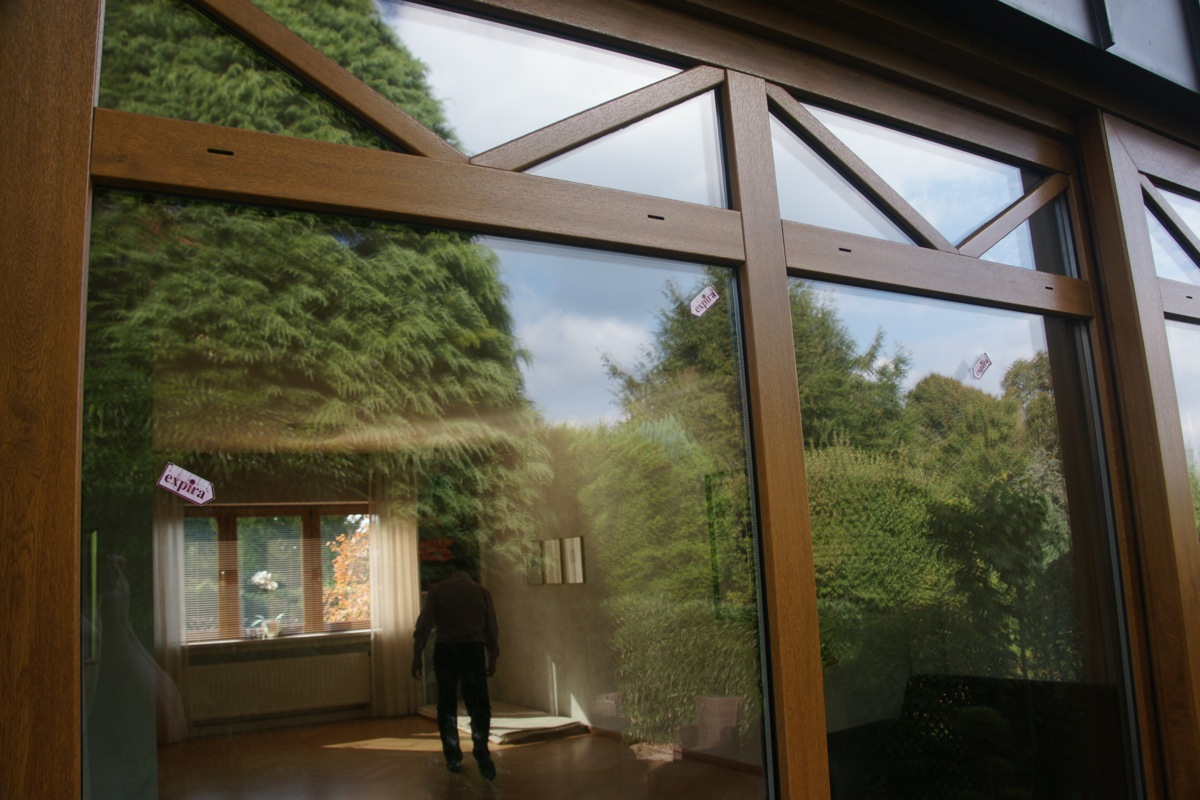windows: (65, 5, 1159, 800)
